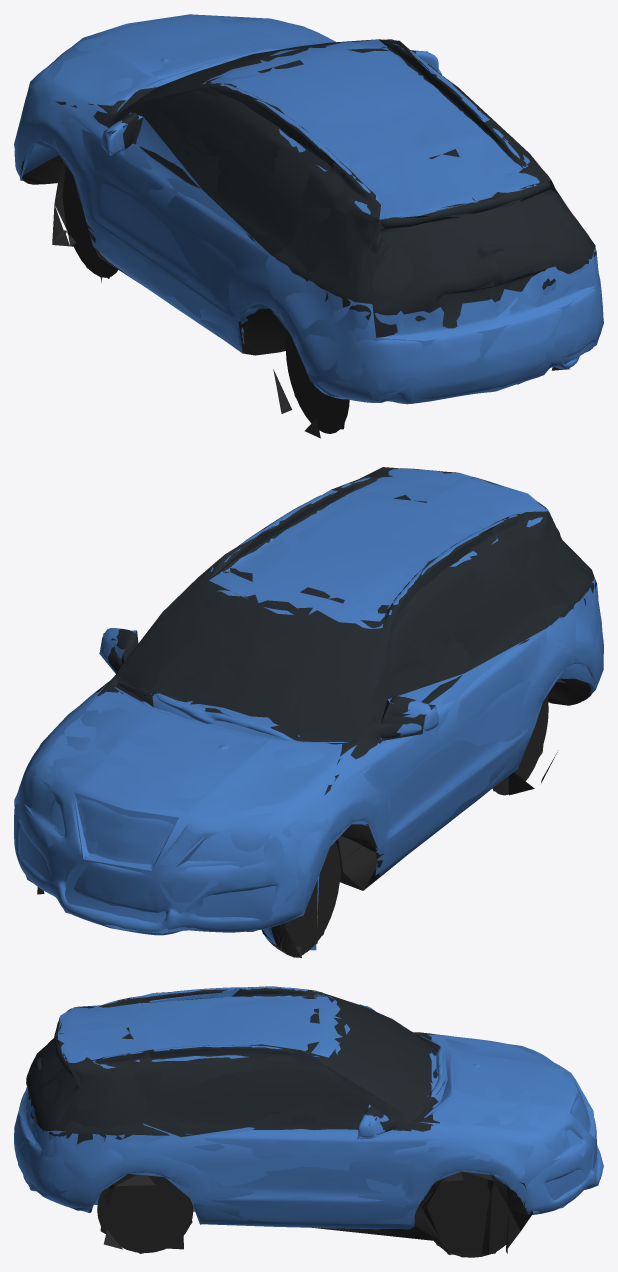
Rendered from saab-9-4.glb.
The picture shows the model from 3 angles, top to bottom: view 1: azimuth 30°, elevation 25°; view 2: azimuth 150°, elevation 25°; view 3: azimuth 270°, elevation 25°; orthographic projection. The views are drawn at different scales.
Visible parts, largest first — view 1: body, far; view 2: body, far; view 3: body, far.
Part boxes in pixels (x1=…): body: x1=14, y1=14, x2=603, y2=433; far: x1=14, y1=14, x2=603, y2=438; body: x1=14, y1=468, x2=603, y2=957; far: x1=14, y1=467, x2=603, y2=957; body: x1=14, y1=986, x2=602, y2=1257; far: x1=14, y1=986, x2=603, y2=1257.
Size of the model in its own units: 2.35 by 1.85 by 4.83.
